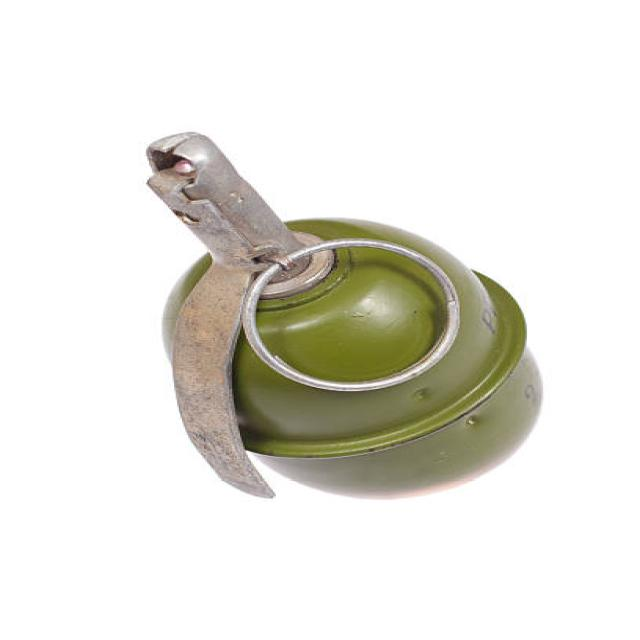grenade: (124, 129, 569, 512)
